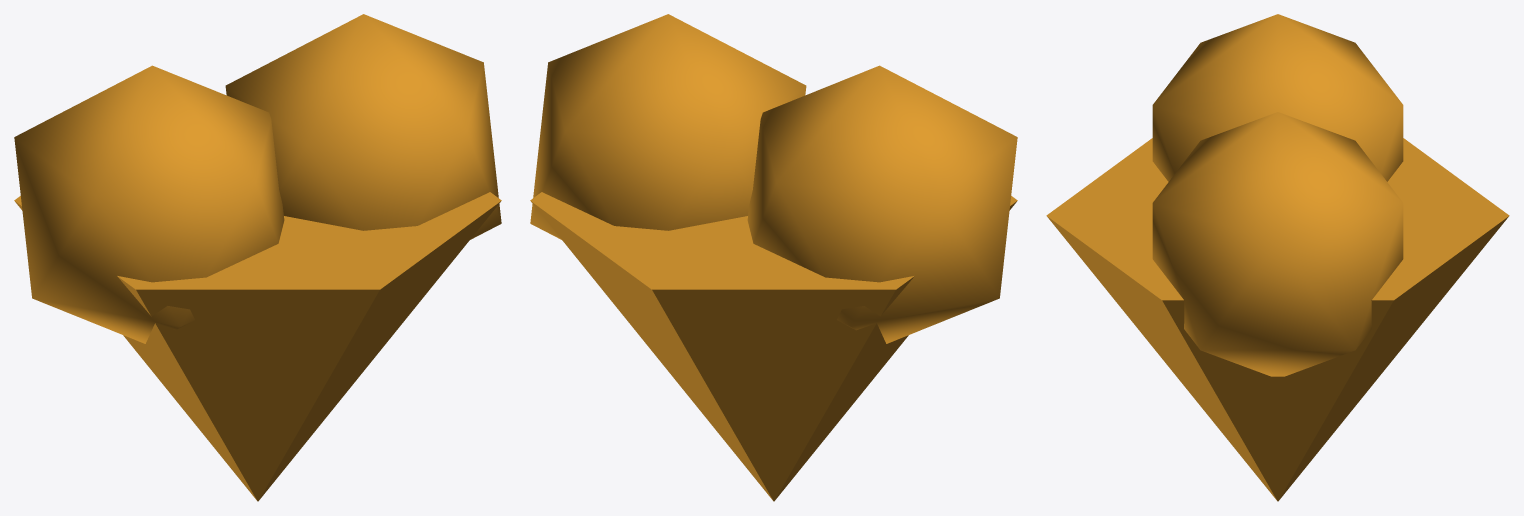
Rendered from life_fruit.glb.
3 renders of one model, left to right at view 1: azimuth 30°, elevation 25°; view 2: azimuth 150°, elevation 25°; view 3: azimuth 270°, elevation 25°, orthographic. The views are drawn at different scales.
Parts seen in each view (by area): view 1: life_fruit_v0; view 2: life_fruit_v0; view 3: life_fruit_v0.
Boxes of the visible parts, bbox=[...] form: life_fruit_v0: bbox=[14, 14, 501, 501]; life_fruit_v0: bbox=[530, 14, 1017, 501]; life_fruit_v0: bbox=[1046, 14, 1509, 501].
Bounding box in the file's own units: 0.2352 × 0.23 × 0.22.
